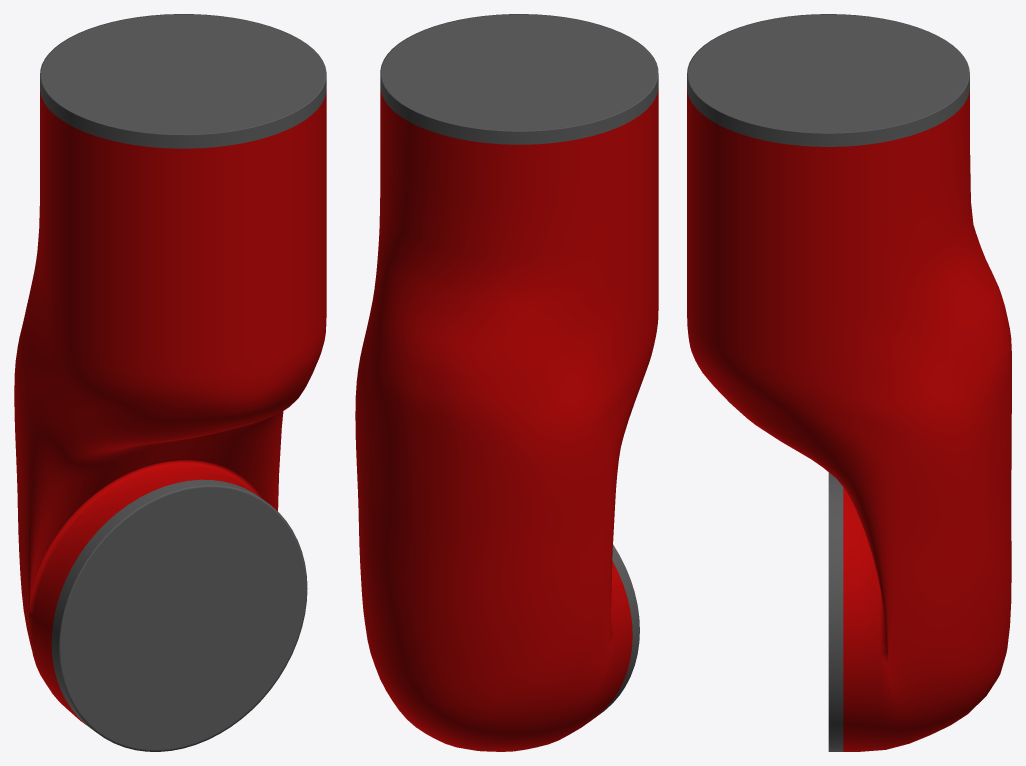
The picture shows the model from 3 angles, left to right: view 1: azimuth 30°, elevation 25°; view 2: azimuth 150°, elevation 25°; view 3: azimuth 270°, elevation 25°; orthographic projection. The views are drawn at different scales.
Visible parts, largest first — view 1: Link02; view 2: Link02; view 3: Link02.
Boxes of the visible parts, bbox=[...] form: Link02: bbox=[14, 14, 326, 751]; Link02: bbox=[355, 14, 658, 751]; Link02: bbox=[687, 14, 1011, 751].
Bounding box in the file's own units: 0.0955 × 0.1097 × 0.2478.
